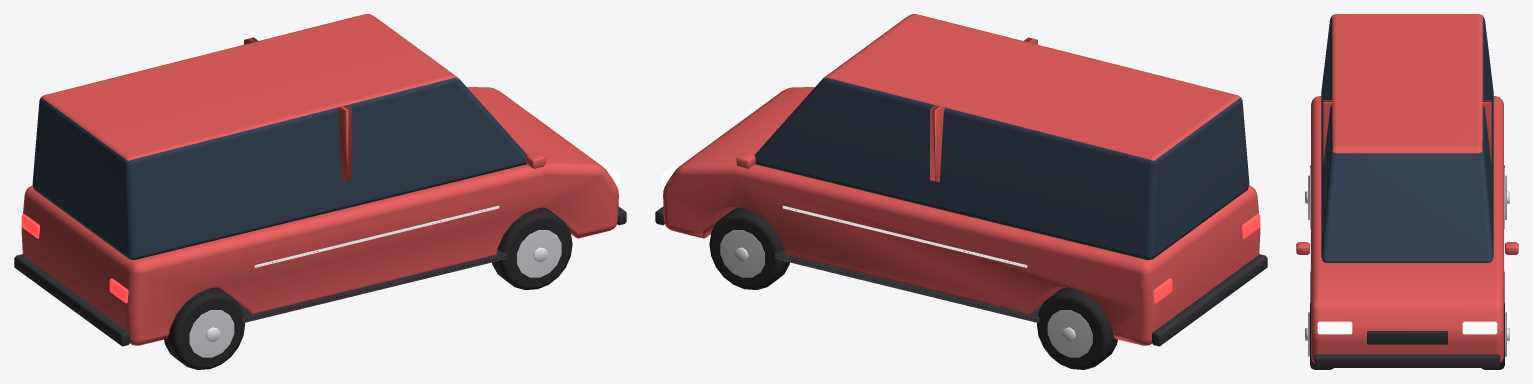
Rendered from rc-van.glb.
The picture shows the model from 3 angles, left to right: view 1: azimuth 30°, elevation 25°; view 2: azimuth 150°, elevation 25°; view 3: azimuth 270°, elevation 25°; orthographic projection. The views are drawn at different scales.
Parts seen in each view (by area): view 1: car_van; view 2: car_van; view 3: car_van.
Boxes of the visible parts, <box> form: car_van: <box>14,14,626,369</box>; car_van: <box>655,14,1267,369</box>; car_van: <box>1296,14,1518,369</box>.
Size of the model in its own units: 5.18 by 2.18 by 2.3.
